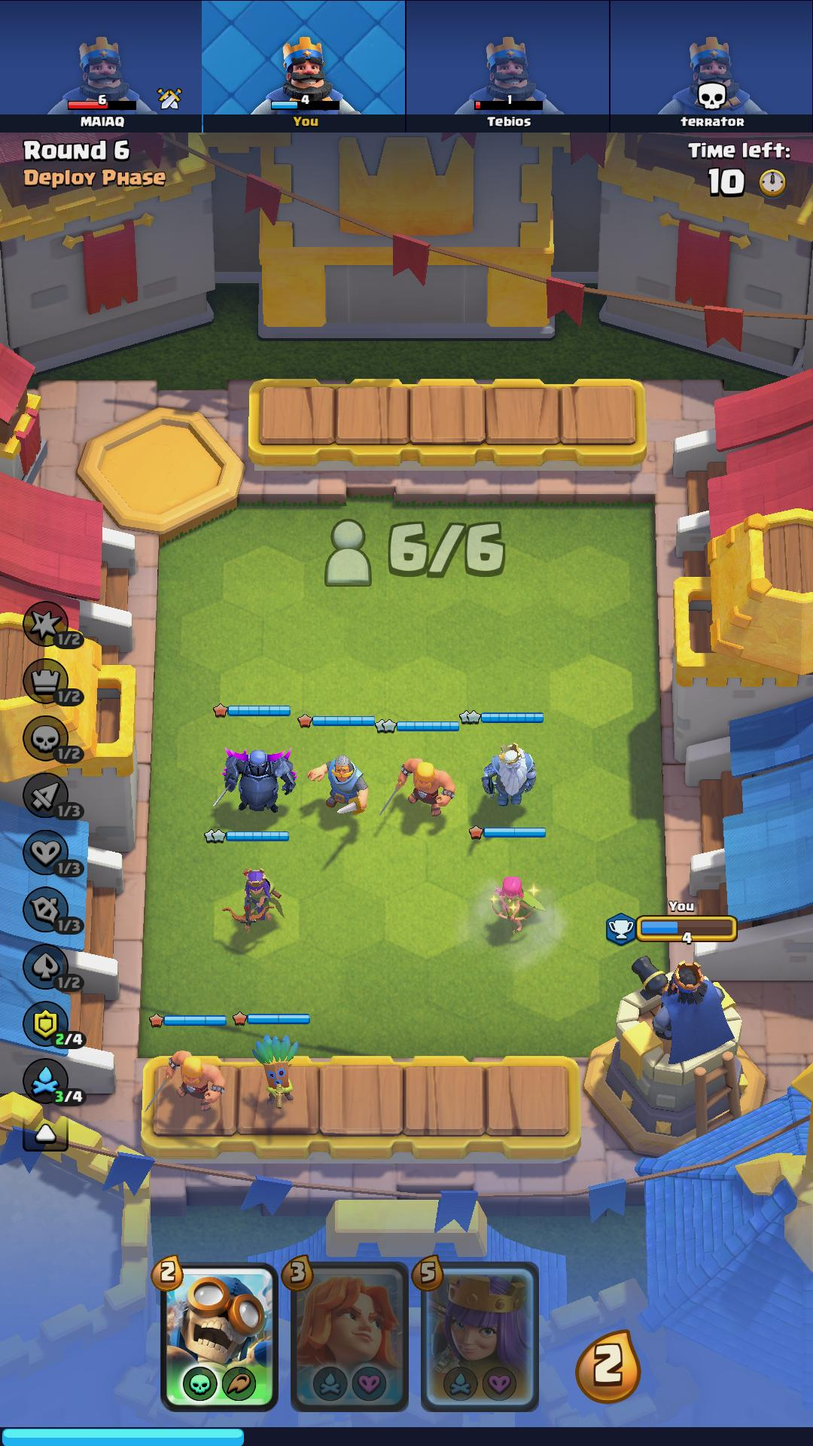archer: (484, 869, 544, 939)
barbarian: (162, 1039, 226, 1118), (389, 753, 456, 821)
dart: (241, 1037, 300, 1114)
ghost: (476, 736, 540, 811)
hand-bomber: (158, 1264, 281, 1410)
hand-queen: (421, 1260, 540, 1410)
hand-valkyrie: (287, 1264, 412, 1407)
knight: (305, 744, 369, 823)
pekka: (213, 737, 298, 823)
queen: (222, 862, 285, 938)
